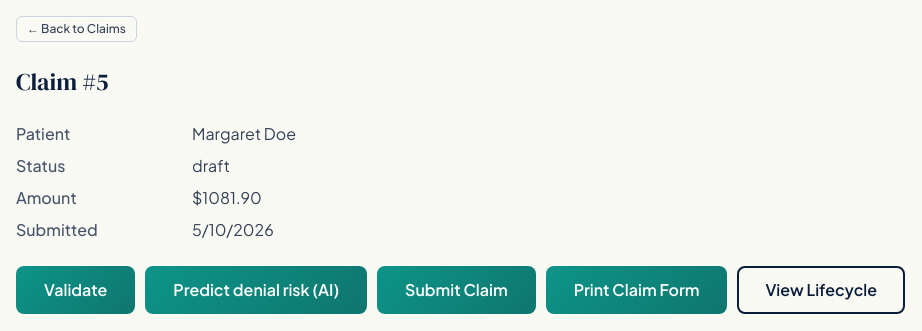
Test: ClaimDetail — submit › submits the claim and reflects the refreshed status
Expected: the heading "Claim #5" is shown, [16,65,108,98]
Click the button "Submit Claim": point(456, 290) [377,266,536,314]
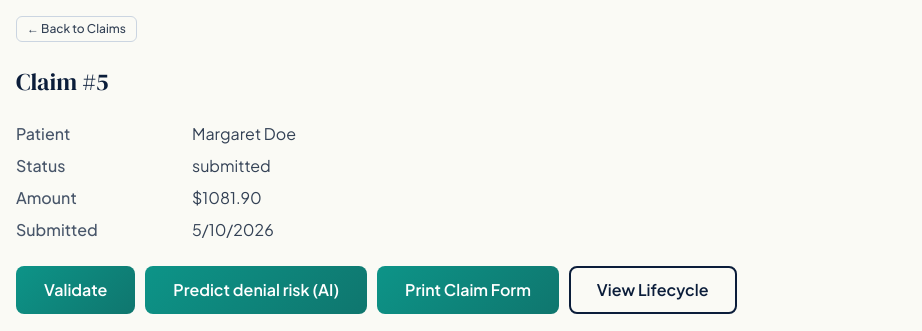
Expected: the button "Submit Claim" is gone
